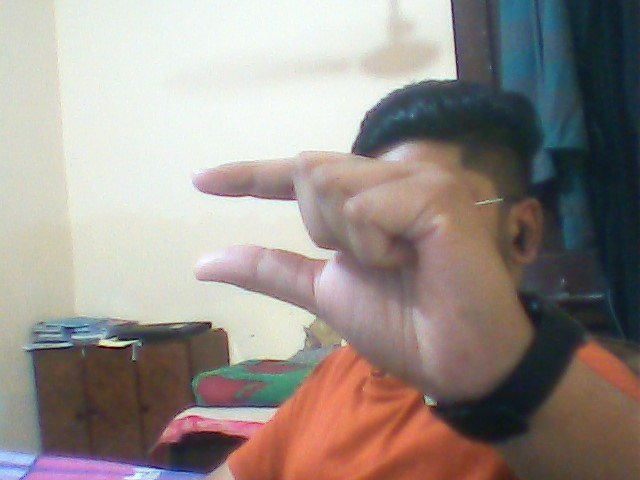small: (188, 146, 507, 372)
